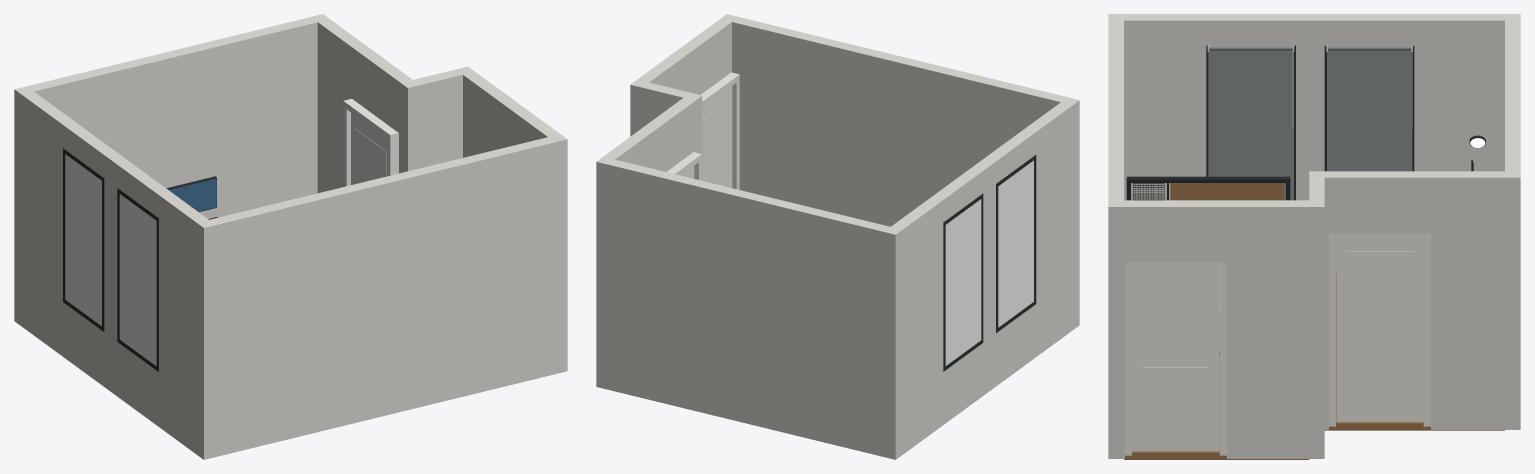
File: room-clay.glb
3 renders of one model, left to right at view 1: azimuth 30°, elevation 25°; view 2: azimuth 150°, elevation 25°; view 3: azimuth 270°, elevation 25°, orthographic. The views are drawn at different scales.
Parts seen in each view (by area): view 1: wall_S, wall_W, wall_N, wall_E, door_closet, monitor2; view 2: wall_N, wall_S, wall_W, wall_E, door, door_closet; view 3: wall_W, wall_E, door_closet, door, wall_N, wall_S, bed, floor.
Boxes of the visible parts, bbox=[...] form: wall_S: bbox=[197, 134, 567, 459]; wall_W: bbox=[21, 91, 208, 454]; wall_N: bbox=[14, 14, 474, 326]; wall_E: bbox=[317, 19, 559, 193]; door_closet: bbox=[343, 99, 398, 186]; monitor2: bbox=[166, 176, 216, 211]; wall_N: bbox=[596, 79, 902, 459]; wall_S: bbox=[720, 14, 1079, 329]; wall_W: bbox=[891, 102, 1072, 454]; wall_E: bbox=[603, 19, 731, 171]; door: bbox=[701, 72, 739, 189]; door_closet: bbox=[667, 152, 701, 180]; wall_W: bbox=[1124, 14, 1504, 273]; wall_E: bbox=[1124, 171, 1504, 458]; door_closet: bbox=[1329, 233, 1430, 426]; door: bbox=[1125, 263, 1226, 455]; wall_N: bbox=[1309, 14, 1520, 458]; wall_S: bbox=[1108, 14, 1123, 458]; bed: bbox=[1126, 176, 1290, 339]; floor: bbox=[1124, 273, 1504, 459].
Bounding box in the file's own units: 4.43 × 2.78 × 4.
